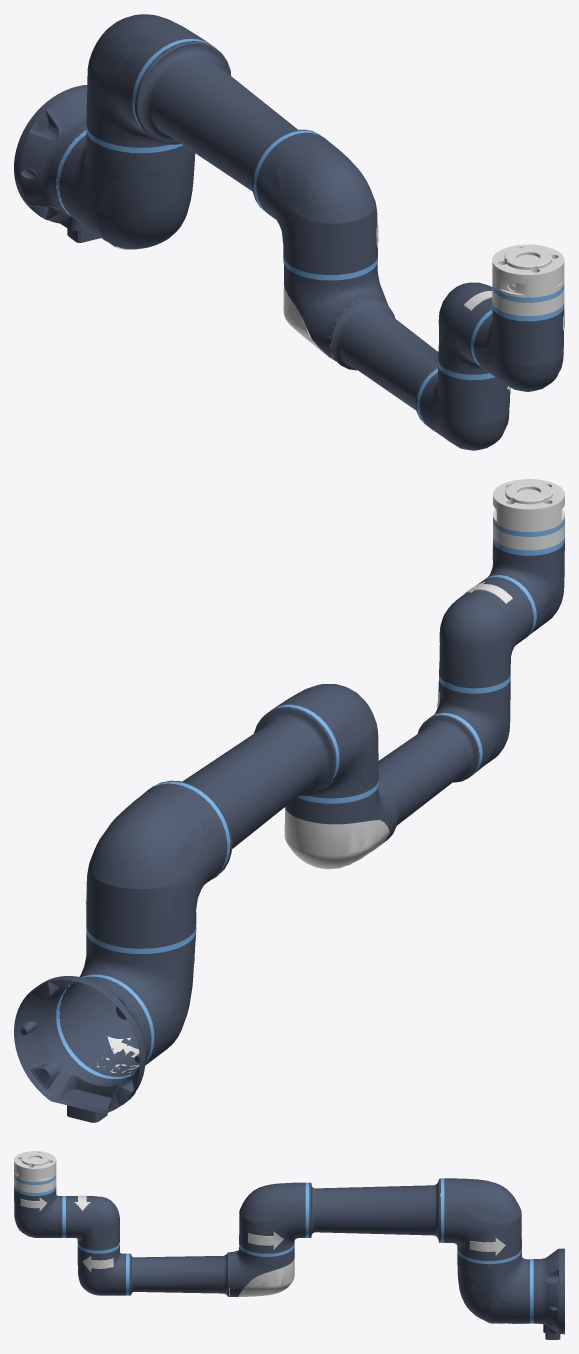
Rendered from 30kg-6axis-model-v2.glb.
3 views of the same model, one above another, from view 1: azimuth 30°, elevation 25°; view 2: azimuth 150°, elevation 25°; view 3: azimuth 270°, elevation 25° (orthographic). The views are drawn at different scales.
Visible parts, largest first — view 1: Link2, Link3, Link1, Base, Link5, Link6, Link4; view 2: Link2, Link3, Link1, Base, Link4, Link6, Link5; view 3: Link2, Link3, Link1, Base, Link4, Link5, Link6, arrow2, arrow3, arrow4.
Boxes of the visible parts, x1,y1,x2,y2 form: Link2: (86,14,377,280); Link3: (283,261,509,450); Link1: (59,122,195,248); Base: (14,85,139,242); Link5: (474,294,564,391); Link6: (492,244,564,315); Link4: (438,282,527,374); Link2: (86,684,378,948); Link3: (284,674,510,869); Link1: (59,926,196,1076); Base: (14,974,154,1122); Link4: (439,575,536,688); Link6: (493,479,564,550); Link5: (484,536,564,634); Link2: (239,1178,521,1260); Link3: (77,1242,294,1296); Link1: (457,1248,529,1323); Base: (530,1248,564,1339); Link4: (62,1196,119,1250); Link5: (14,1184,62,1237); Link6: (14,1151,56,1192); arrow2: (469,1237,505,1255); arrow3: (248,1231,283,1249); arrow4: (82,1256,113,1271).
Bounding box in the file's own units: 0.2448 × 0.5605 × 1.58.
